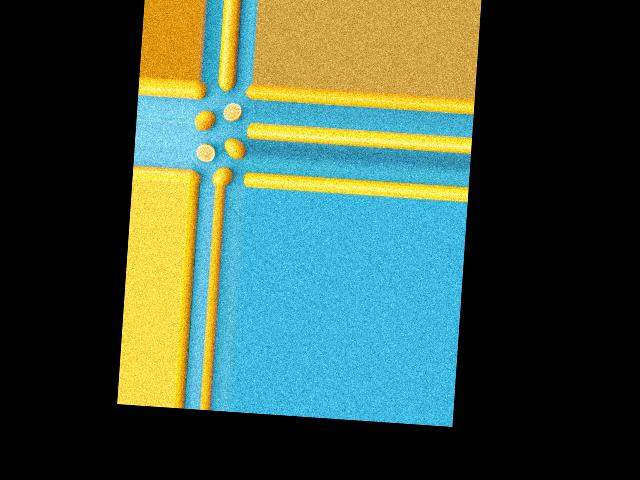lemon: (189, 167, 203, 185)
